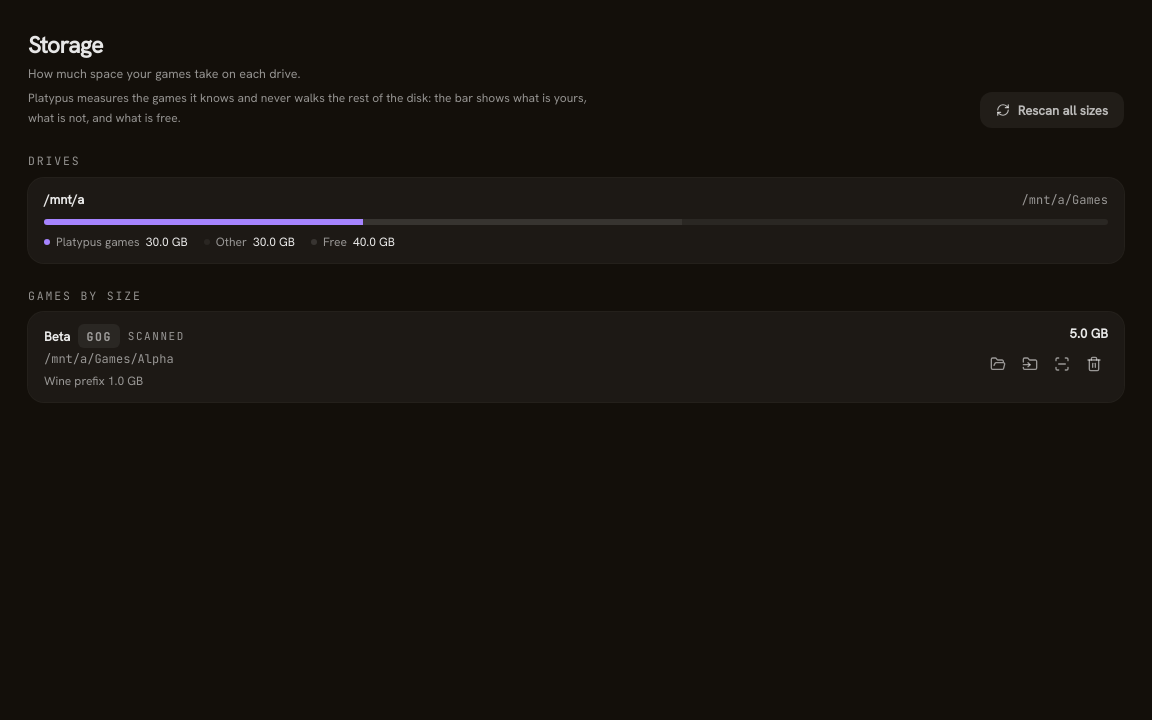
Test case: StorageView › moves a store game through the Move dialog
The image size is (1152, 720).
Click the button named "Move Beta" at (1030,364), box [1016,350,1044,378]
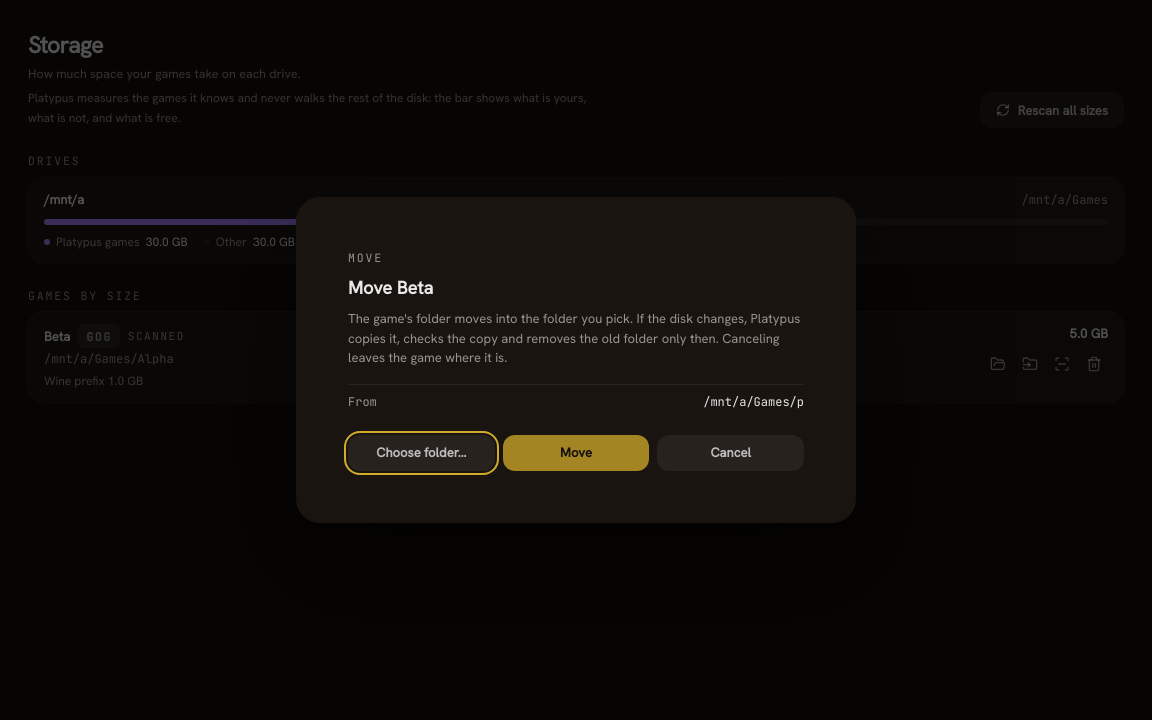
Now the heading "Move Beta" is shown, box [348,276,433,299]
